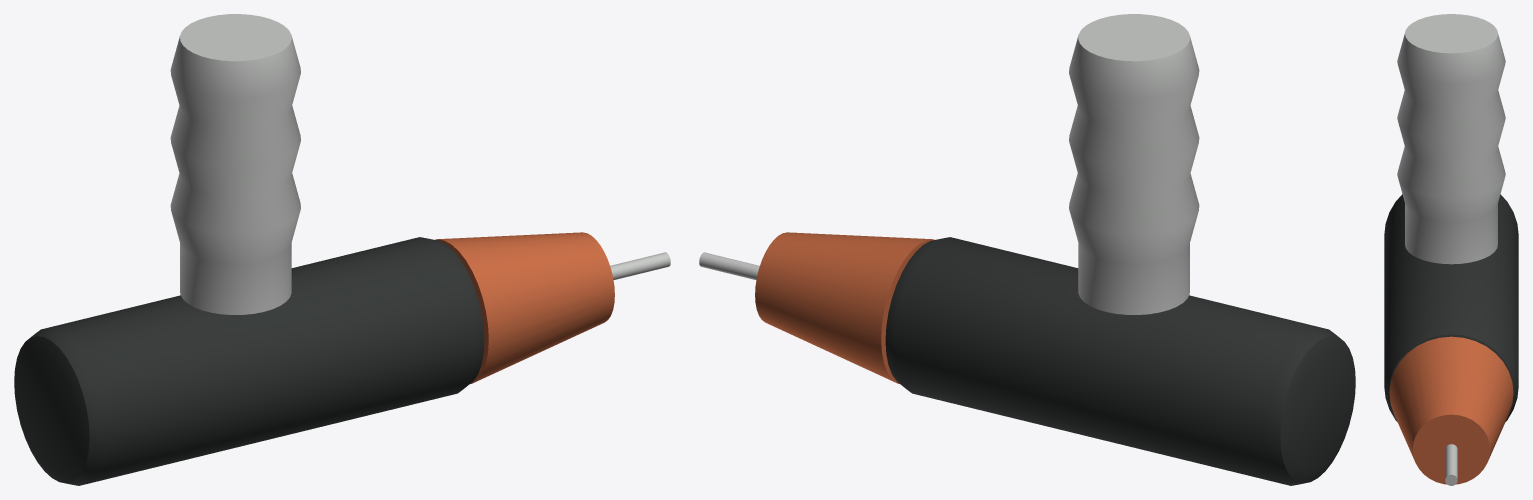
The model's file is tig_torch_flex_head_flex_head.glb.
3 renders of one model, left to right at view 1: azimuth 30°, elevation 25°; view 2: azimuth 150°, elevation 25°; view 3: azimuth 270°, elevation 25°, orthographic. The views are drawn at different scales.
Visible parts, largest first — view 1: tig_torch_flex_head_flex_head; view 2: tig_torch_flex_head_flex_head; view 3: tig_torch_flex_head_flex_head.
Part boxes in pixels (x1,y1,x2,y2): tig_torch_flex_head_flex_head: (14,14,670,485); tig_torch_flex_head_flex_head: (699,14,1355,485); tig_torch_flex_head_flex_head: (1384,14,1518,485).
Bounding box in the file's own units: 0.115 × 0.071 × 0.026.
